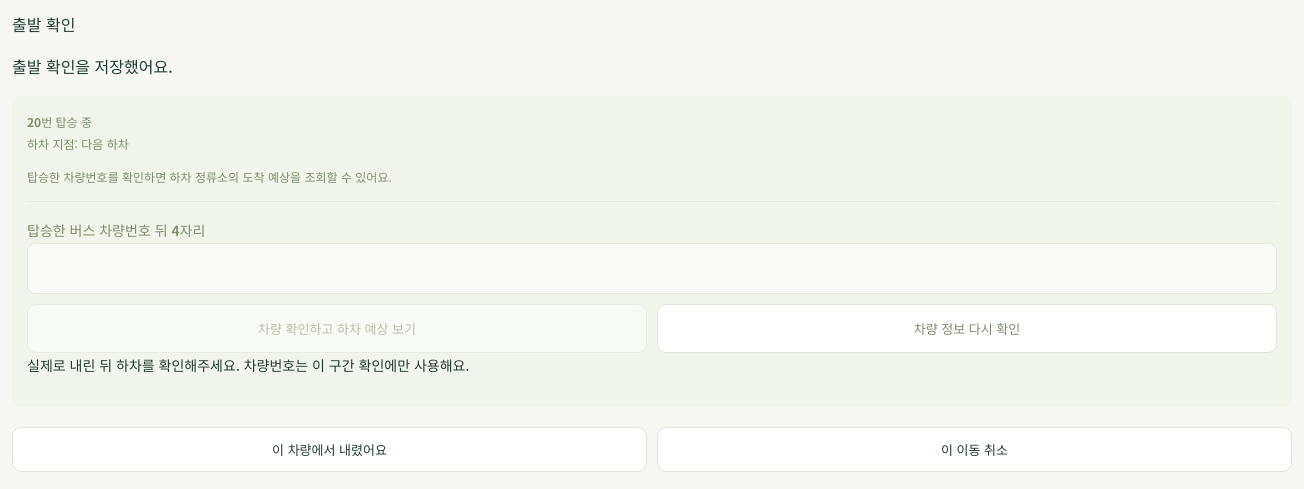
Scenario: onboard state has no invented ETA and alighting opens confirmed transfer guidance
expect the text "탑승한 차량번호를 확인하면 하차 정류소의 도착 예상을 조회할 수 있어요." is shown: met, box [27,168,392,185]
expect the text "환승 중 남은 경로 확인" is not shown: met
What coordinates should you click on to do the following:
click the button "이 차량에서 내렸어요"
I would click on:
 (330, 449)
Its box is [12,427,647,472].
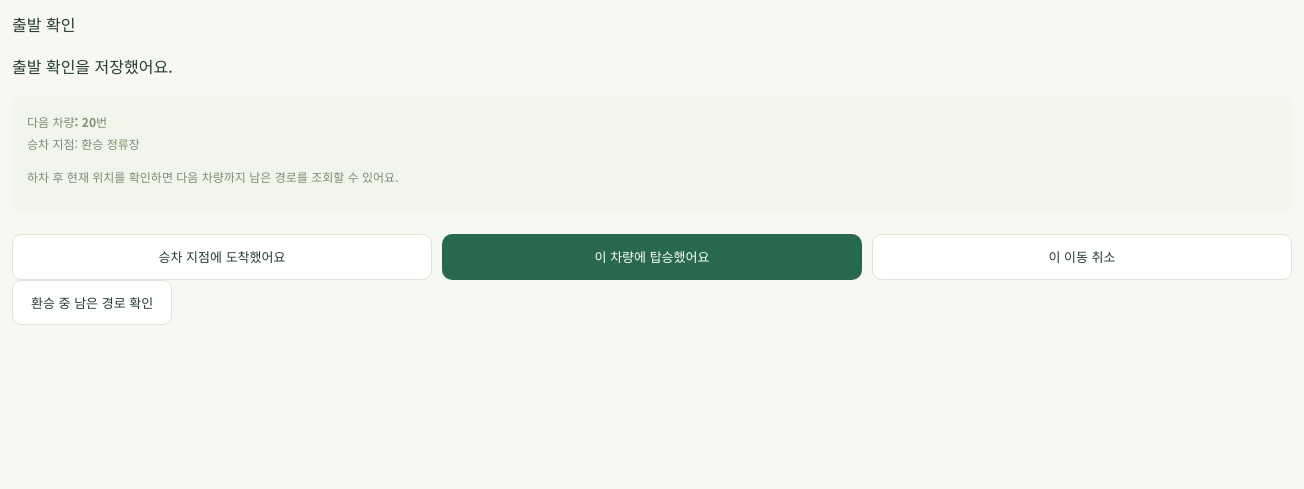
expect the button "환승 중 남은 경로 확인" is shown: met, box [12,280,172,325]
expect the button "이 차량에 탑승했어요" is shown: met, box [442,234,862,280]
